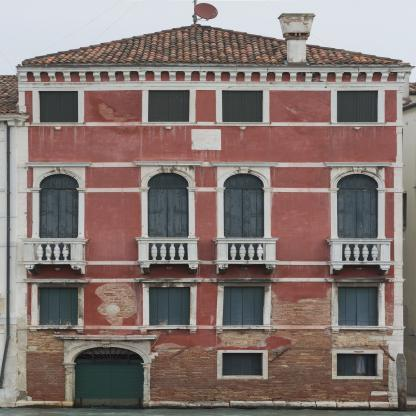Balcony: (212, 237, 280, 265), (20, 238, 89, 265), (326, 238, 394, 265), (135, 237, 201, 264)
Blind: (148, 190, 189, 261), (224, 189, 265, 260), (338, 190, 379, 261), (39, 190, 79, 261), (223, 287, 264, 326), (338, 287, 378, 326), (38, 287, 78, 326), (150, 287, 190, 325), (336, 90, 378, 122), (221, 90, 263, 122), (148, 90, 190, 122), (40, 91, 78, 122), (222, 353, 262, 376), (337, 354, 377, 377)
Building Outline: (15, 13, 416, 409)
Cornice: (53, 335, 161, 340), (22, 278, 93, 283), (24, 162, 93, 167), (133, 161, 204, 165), (324, 278, 395, 282), (210, 278, 281, 282), (135, 278, 206, 282), (323, 162, 393, 166), (209, 162, 279, 166)
Deco: (165, 266, 173, 270), (241, 267, 249, 271), (165, 126, 173, 130), (355, 268, 363, 271), (54, 268, 62, 271), (353, 127, 361, 130), (54, 127, 62, 130), (239, 127, 247, 130)
Door: (75, 363, 144, 409), (338, 190, 379, 261), (148, 190, 189, 261), (224, 189, 265, 260), (39, 190, 79, 261)
Facade: (18, 71, 403, 409)
Floor: (18, 147, 403, 265), (18, 67, 403, 147), (18, 265, 403, 344)
Floor Slab: (18, 260, 403, 265), (18, 339, 403, 344), (18, 143, 403, 147)
Ground Floor: (18, 344, 403, 409)
Molding: (17, 71, 407, 82)
Roof: (21, 24, 411, 66)
Sill: (137, 325, 199, 334), (28, 325, 87, 334), (214, 325, 273, 334), (329, 326, 390, 334)
Window: (223, 287, 264, 326), (338, 287, 378, 326), (38, 287, 78, 326), (150, 287, 190, 325), (336, 90, 378, 122), (148, 90, 190, 122), (221, 90, 263, 122), (40, 91, 78, 122), (71, 347, 144, 363), (222, 353, 262, 376), (337, 354, 377, 377), (148, 172, 189, 189), (223, 173, 265, 189), (337, 174, 378, 190), (39, 174, 79, 189)
